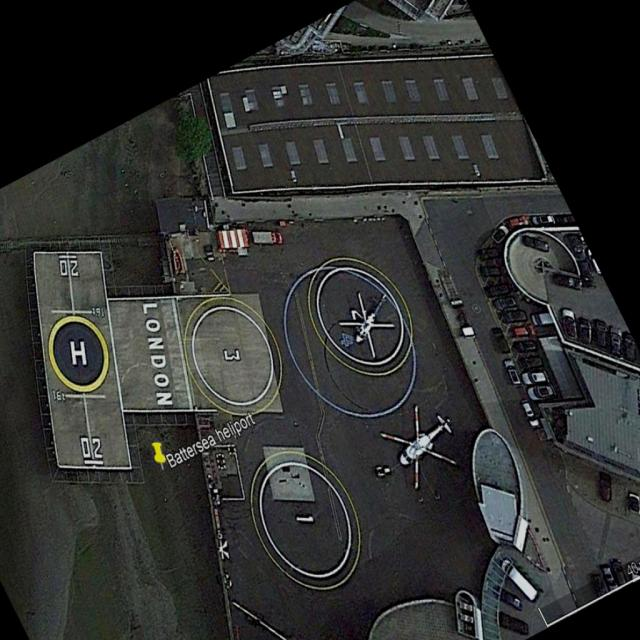helipad: (44, 312, 112, 394)
